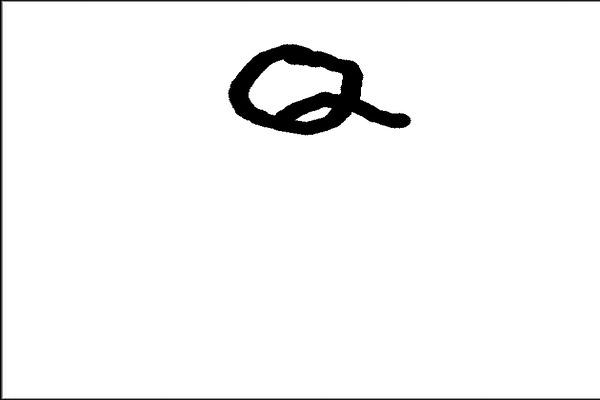Q: (220, 34, 411, 140)
